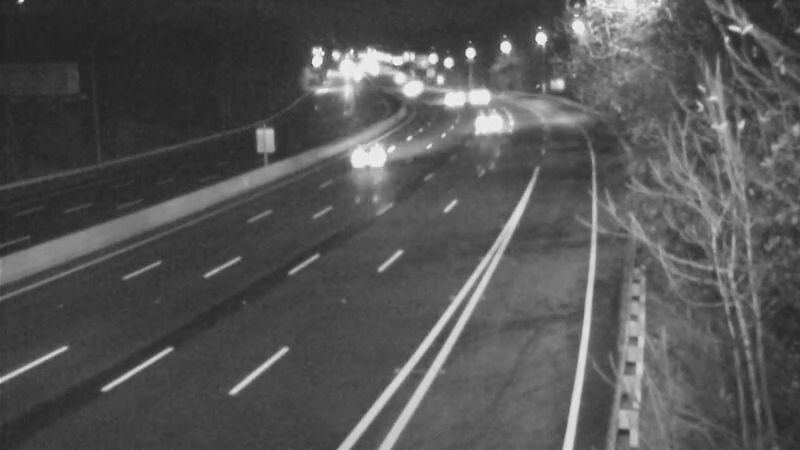vehicle: (326, 114, 406, 194), (424, 73, 474, 123), (453, 65, 503, 115), (465, 99, 515, 149)
